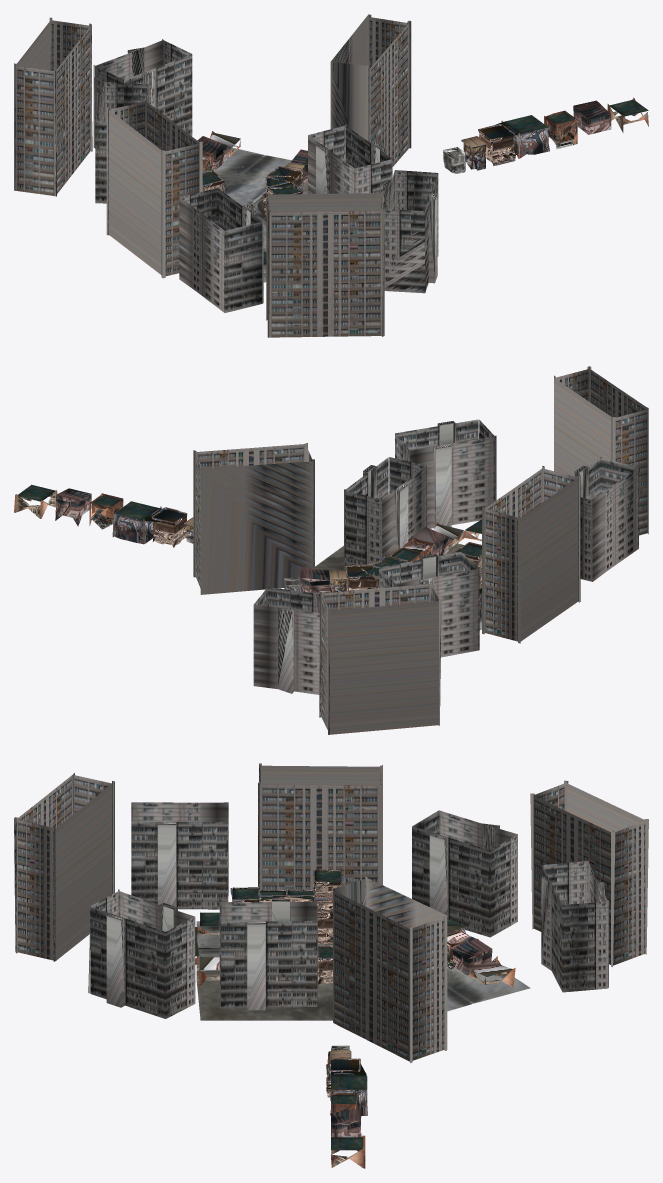
File: street_city_block.glb
3 views of the same model, one above another, from view 1: azimuth 30°, elevation 25°; view 2: azimuth 150°, elevation 25°; view 3: azimuth 270°, elevation 25° (orthographic). The views are drawn at different scales.
Visible parts, largest first — view 1: body; view 2: body; view 3: body.
Part boxes in pixels (box(x1,y1,x2,y2)): body: box(14, 14, 648, 337); body: box(14, 366, 648, 734); body: box(14, 763, 648, 1168).
Bounding box in the file's own units: 25.92 × 6.86 × 25.61.
12 materials, 11 textured.
